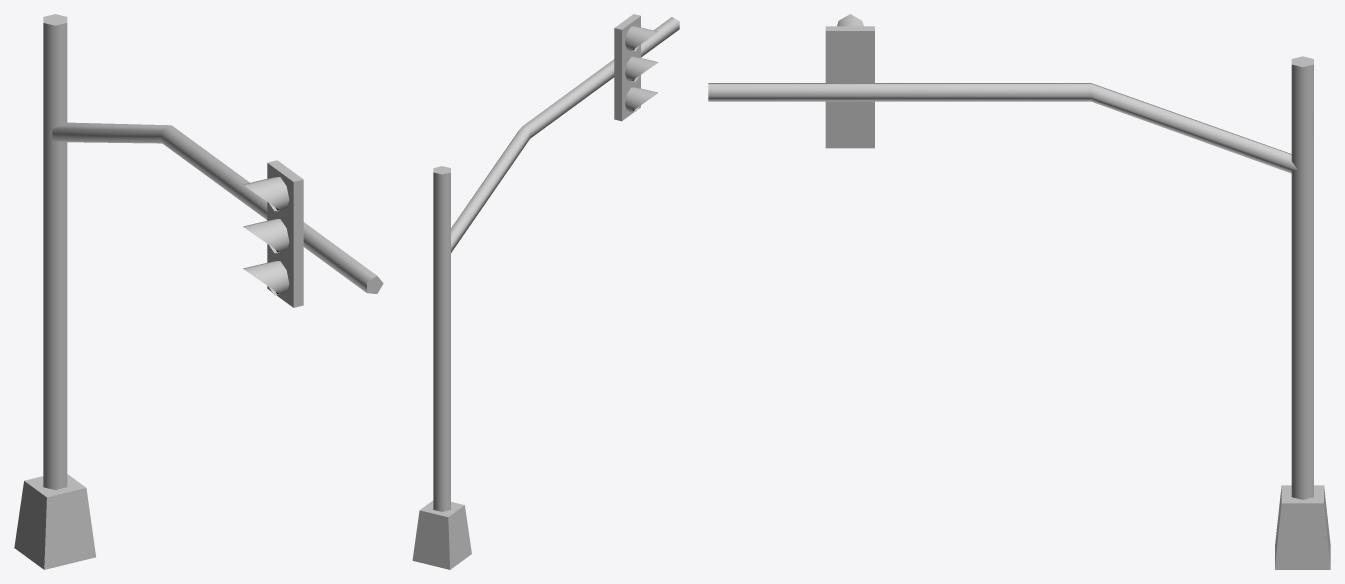
The model's file is trafficLight03.fbx.
The picture shows the model from 3 angles, left to right: view 1: azimuth 30°, elevation 25°; view 2: azimuth 150°, elevation 25°; view 3: azimuth 270°, elevation 25°; orthographic projection. The views are drawn at different scales.
Visible parts, largest first — view 1: trafficLight03, trafficLight; view 2: trafficLight03, trafficLight; view 3: trafficLight03, trafficLight.
Boxes of the visible parts, x1,y1,x2,y2 form: trafficLight03: (14, 14, 383, 569); trafficLight: (243, 160, 303, 307); trafficLight03: (412, 17, 679, 569); trafficLight: (614, 14, 658, 121); trafficLight03: (708, 56, 1330, 569); trafficLight: (825, 14, 874, 148).
Size of the model in its own units: 86.21 by 581 by 625.
